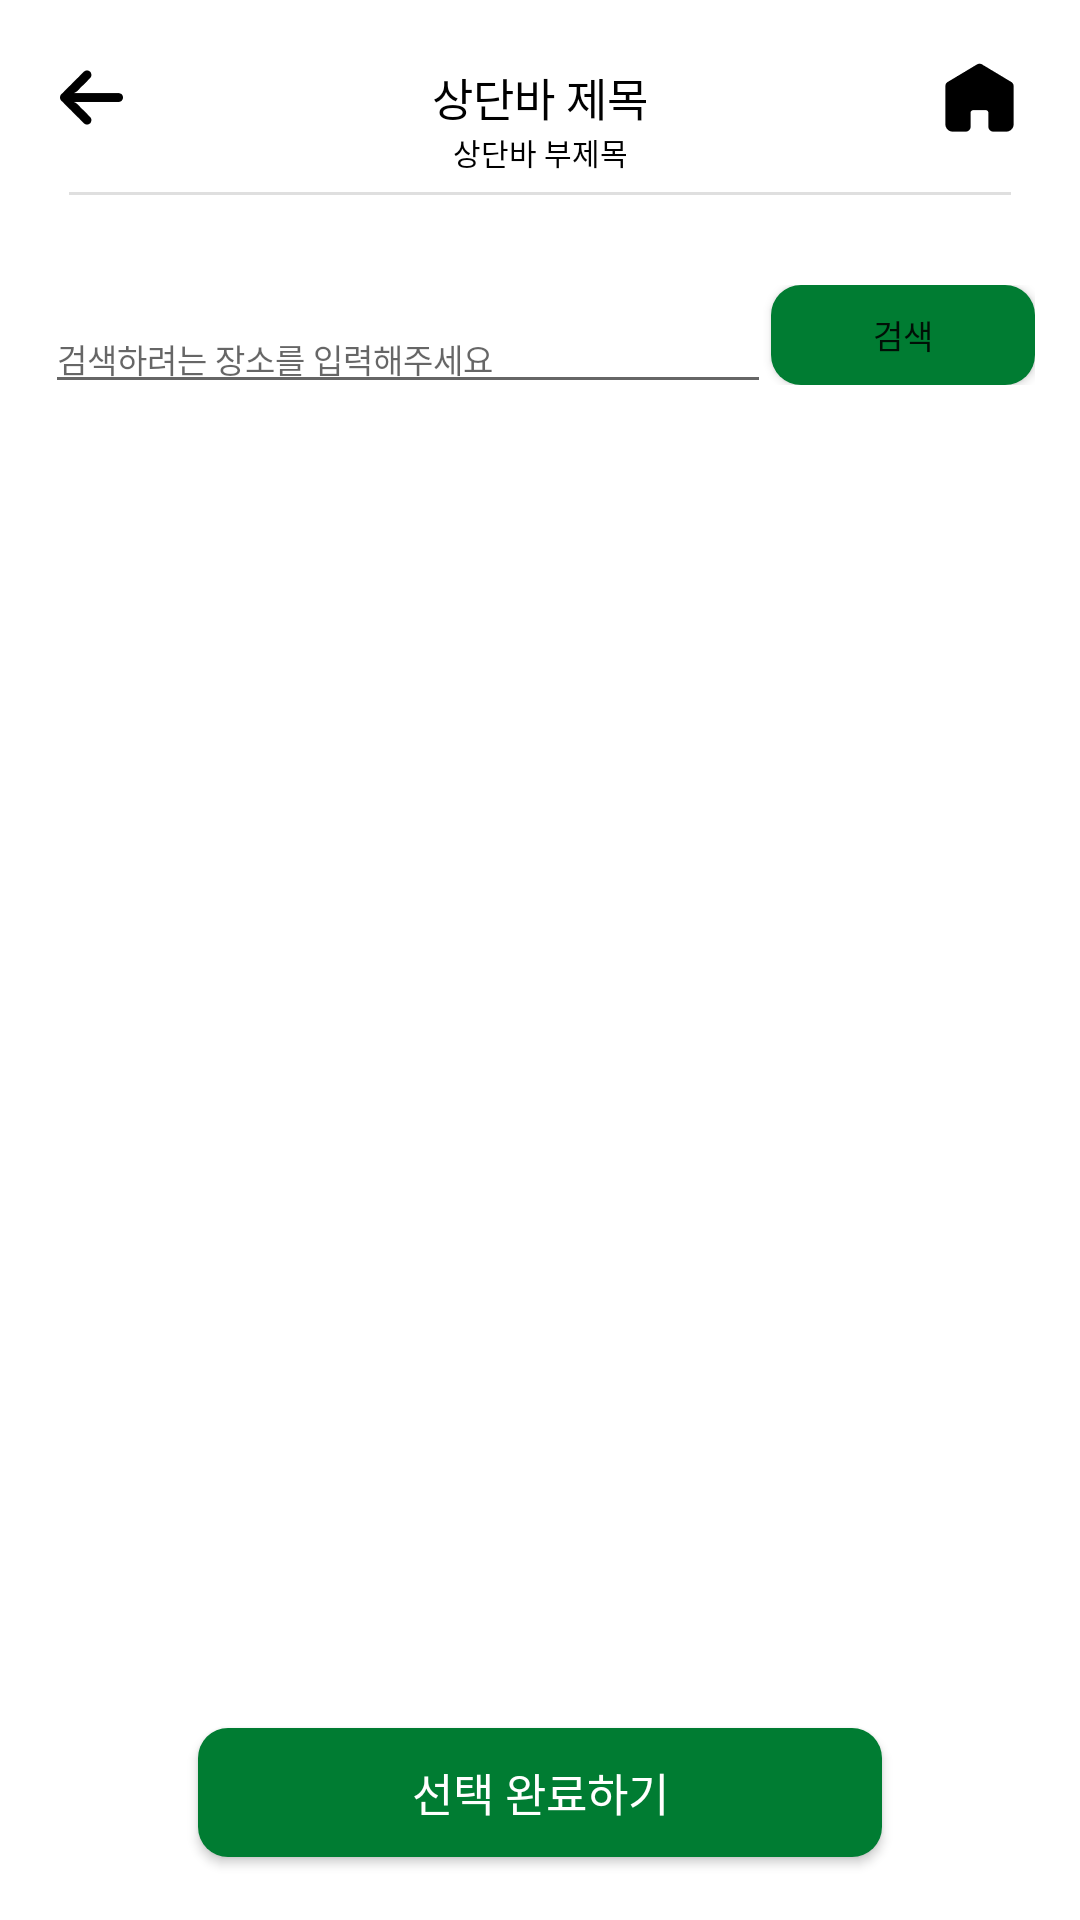

Icon bounding boxes for this 1080 × 1920 phone screenshot, format (x1, y1, x2, y2):
base back: (60, 70, 123, 125)
base home: (945, 63, 1014, 132)
